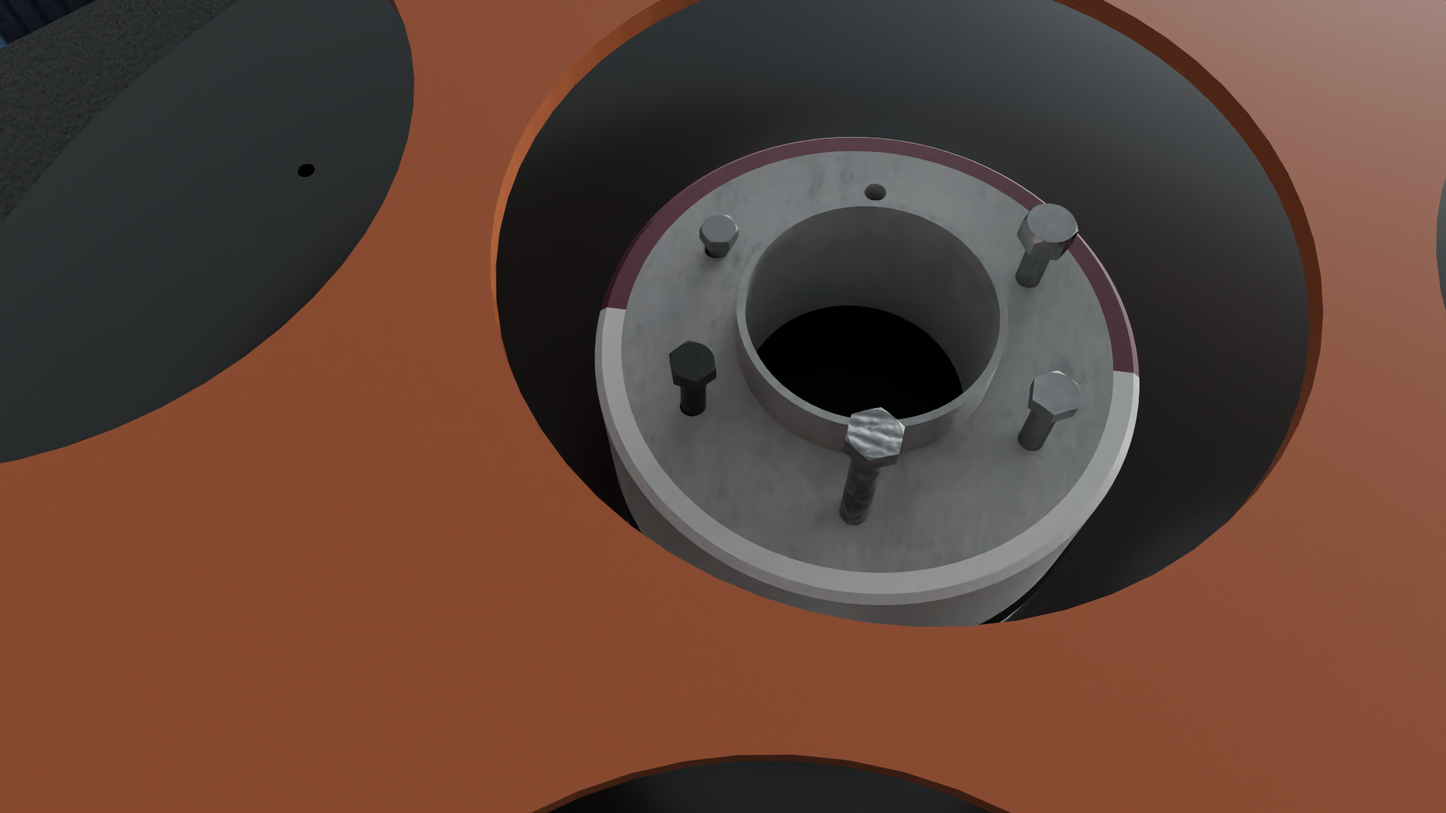bolt: (845, 407, 905, 461), (1022, 203, 1078, 248), (1033, 371, 1080, 416), (669, 340, 716, 383), (700, 215, 739, 243)
